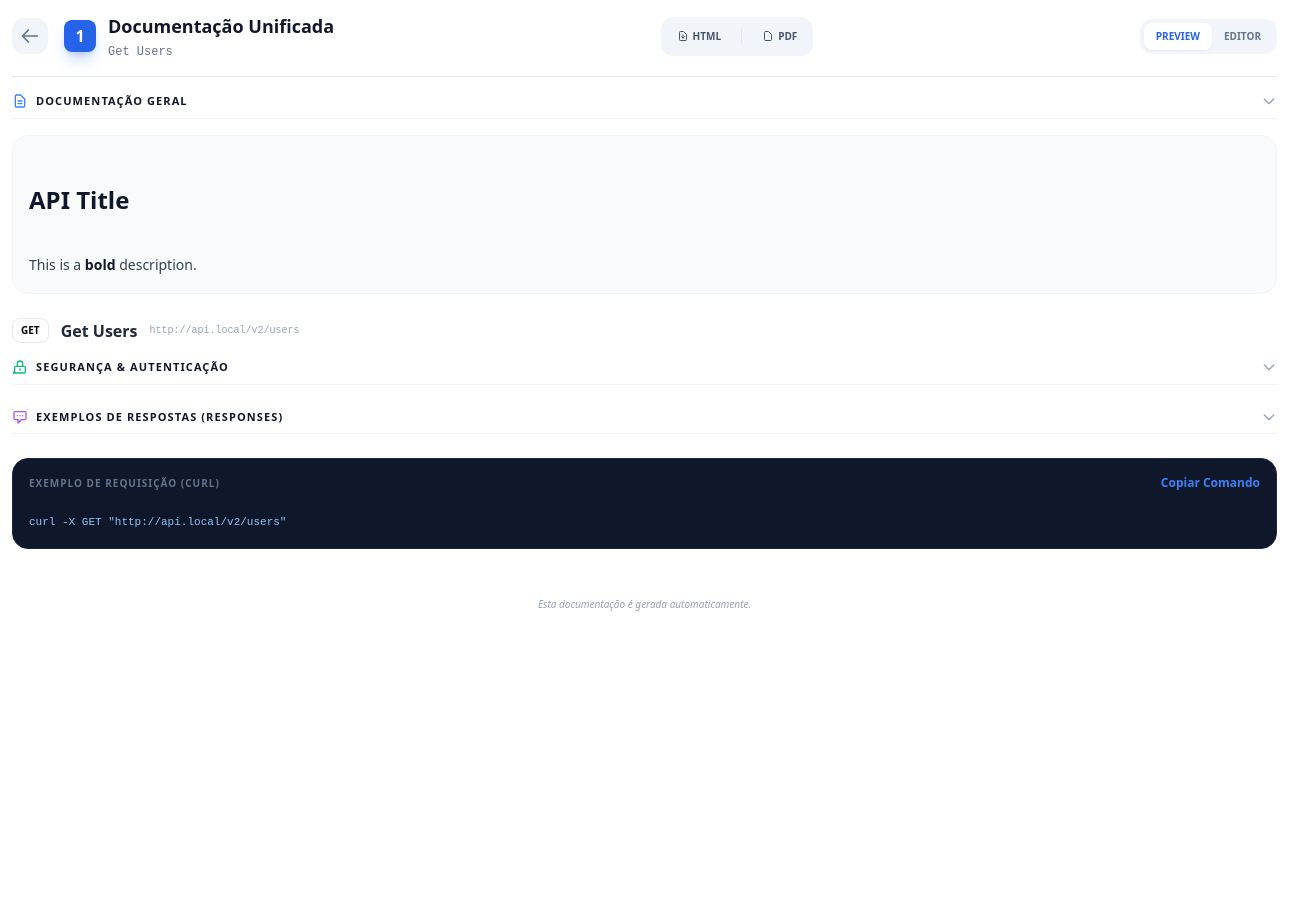
DocumentationView › should expand collapsible sections on click
The image size is (1292, 912).
Click the heading "Segurança & Autenticação". click: [132, 367]
box: [36,359,229,376]
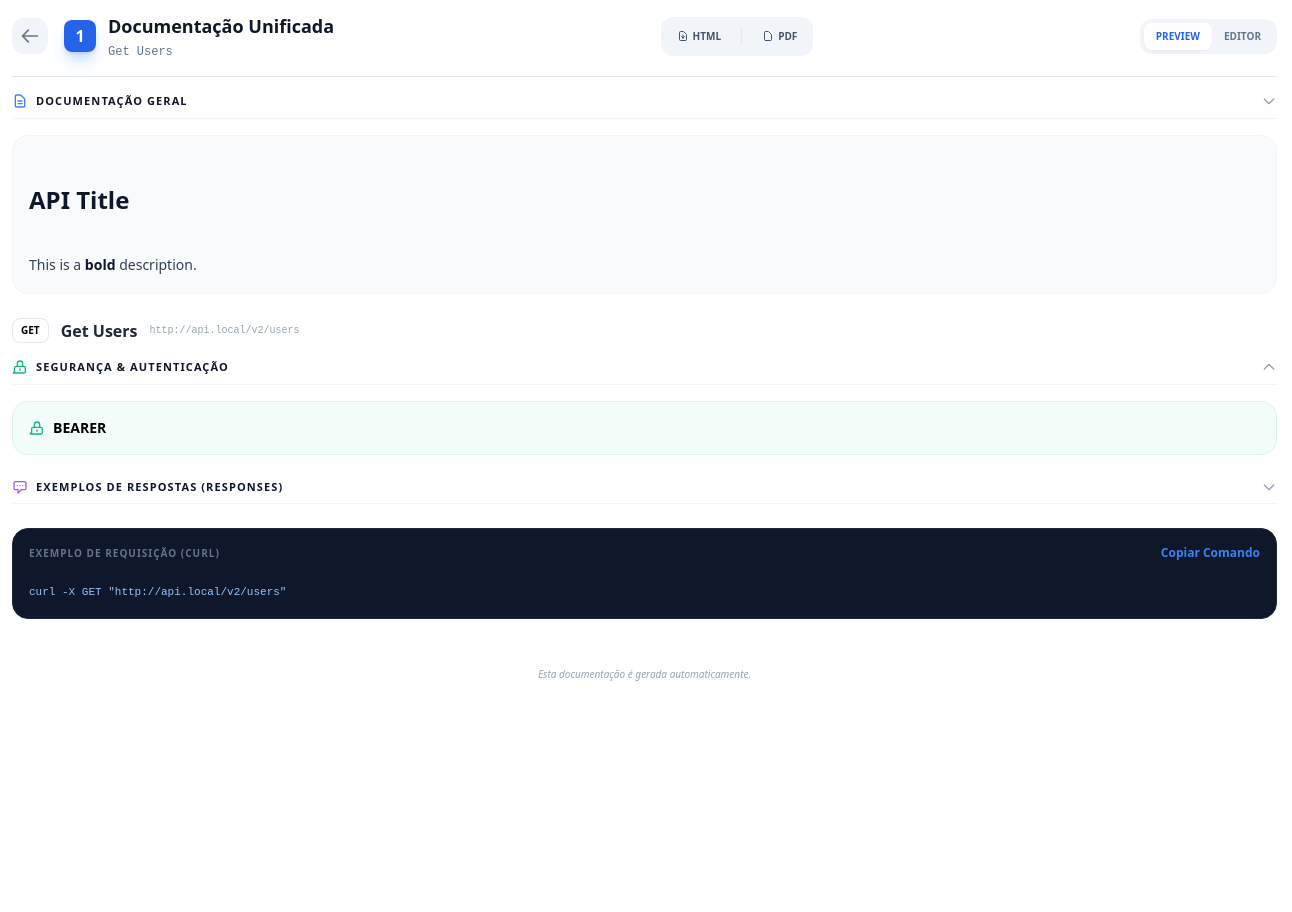
Now the text "BEARER" is shown, box [29,418,106,436]
